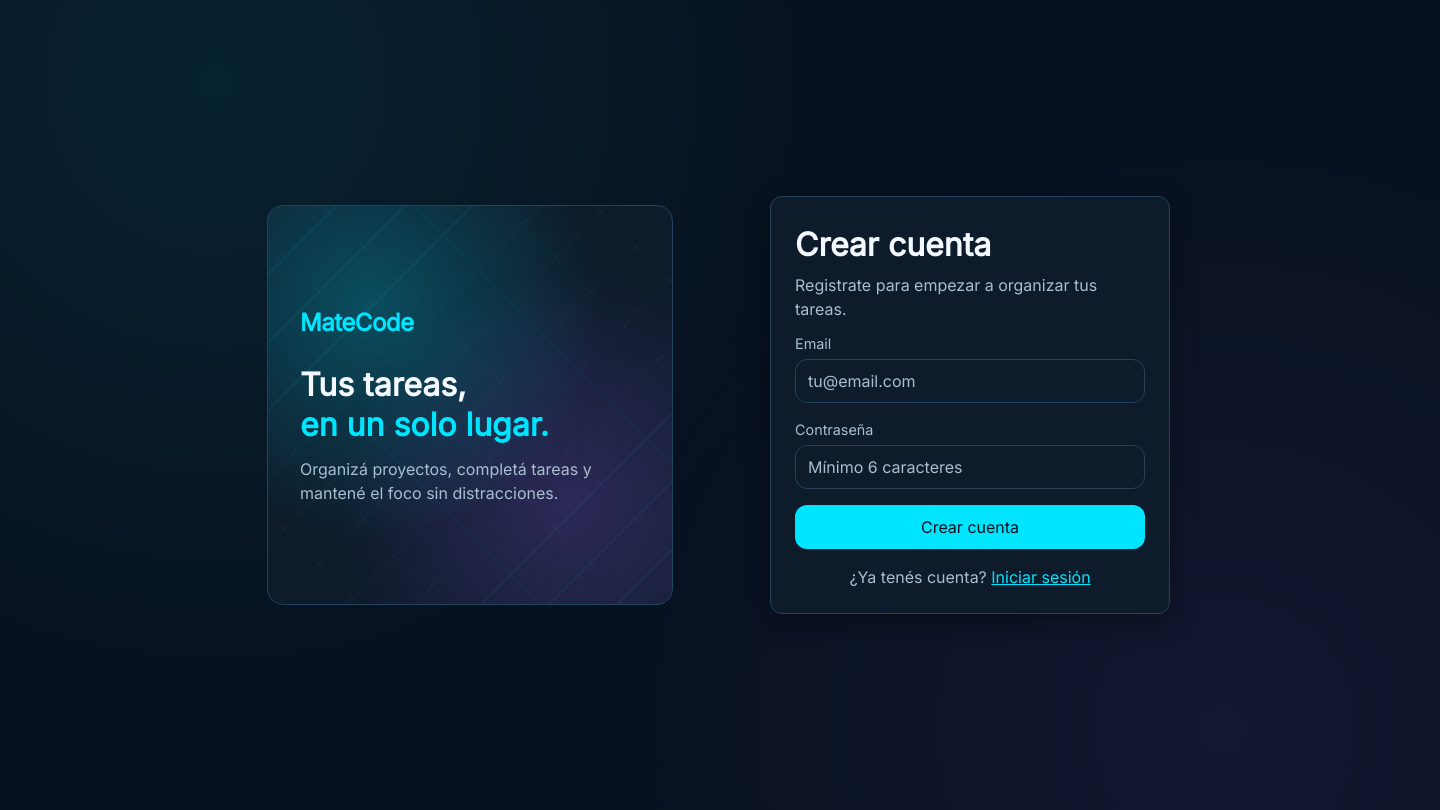
RegisterPage › muestra un error comprensible si el registro falla
Type "user@matecode.com" into the field labelled "Email" at (970,381), box x1=795 y1=359 x2=1145 y2=403
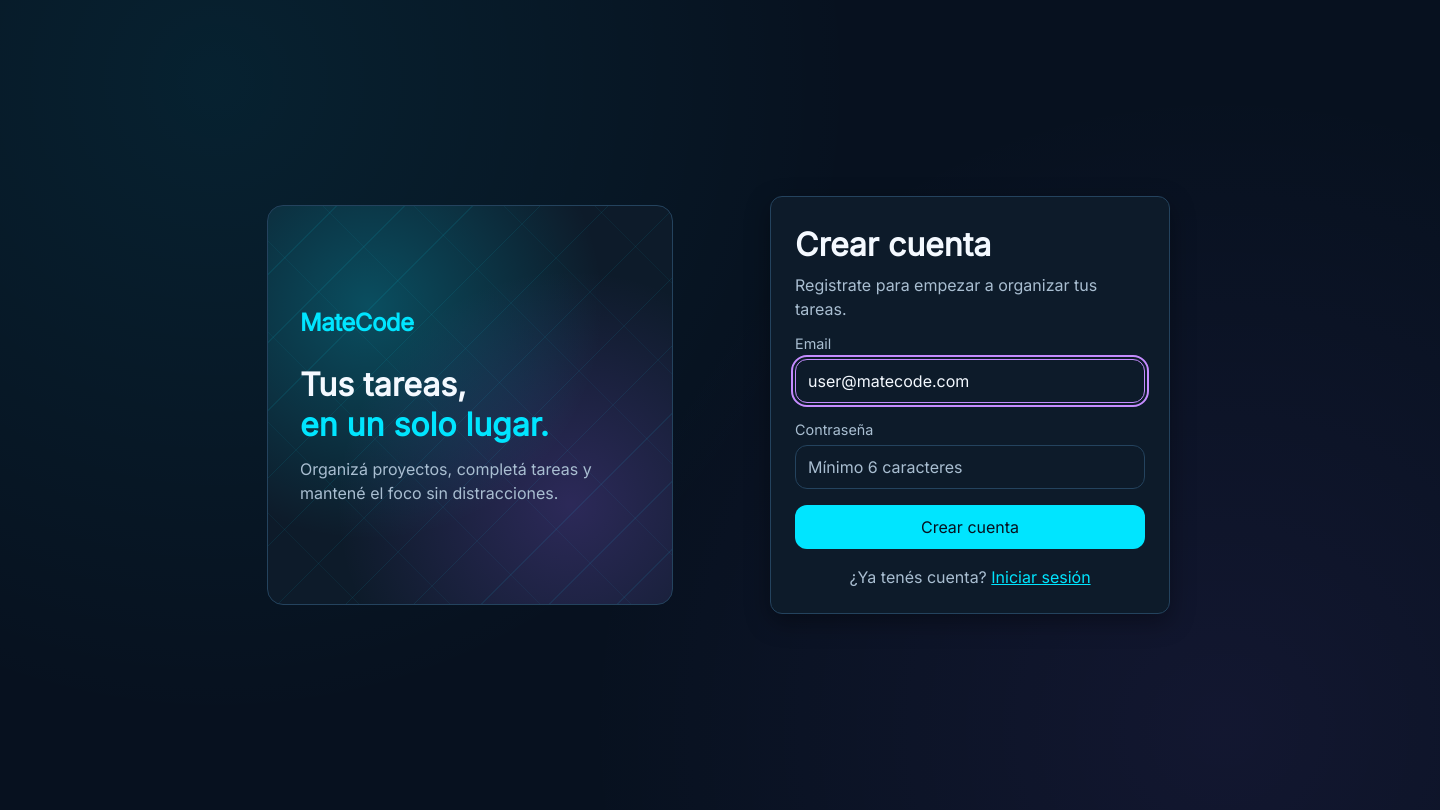
Type "123456" into the password field labelled "Contraseña" at (970,467), box x1=795 y1=445 x2=1145 y2=489
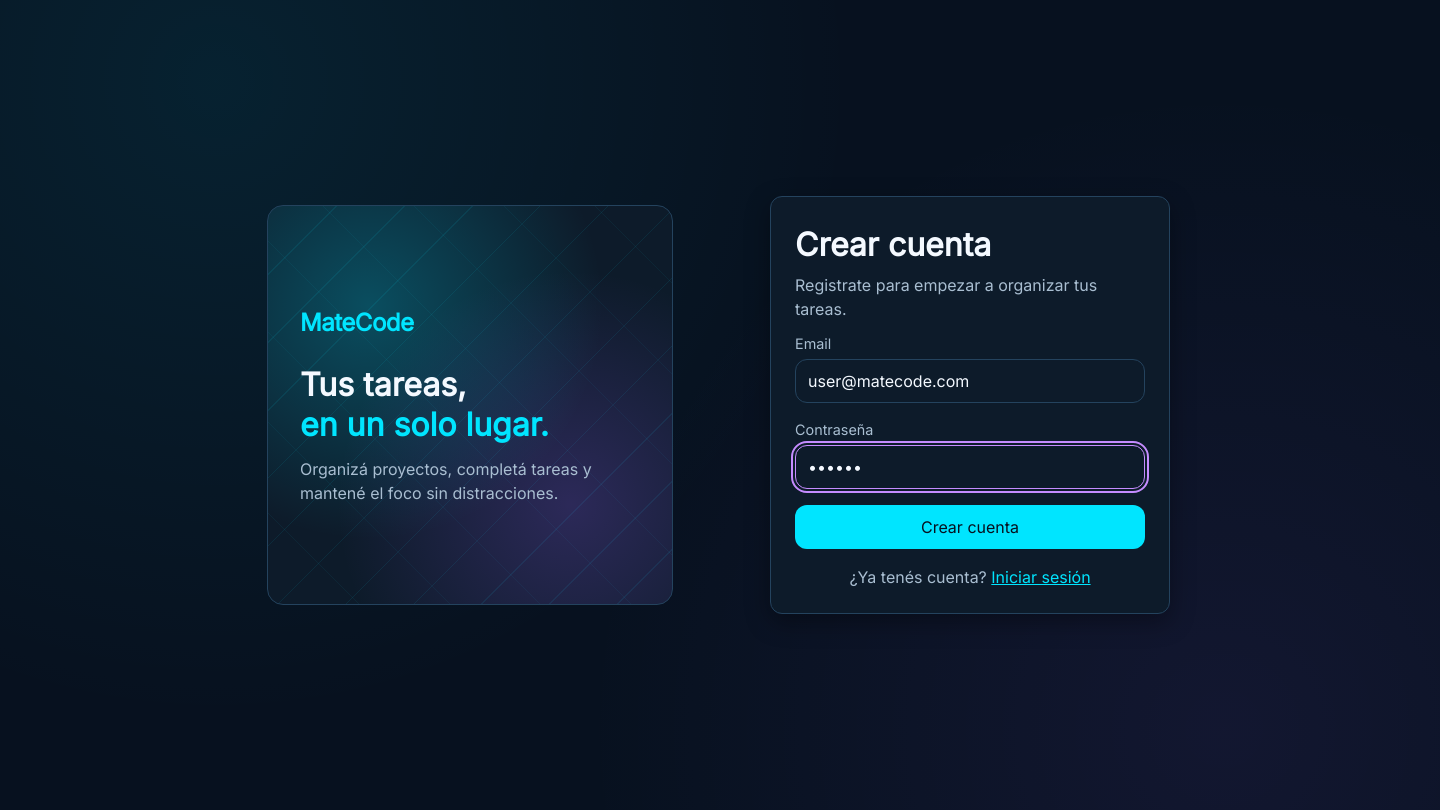
Click the button "Crear cuenta" at (970,527), box x1=795 y1=505 x2=1145 y2=549
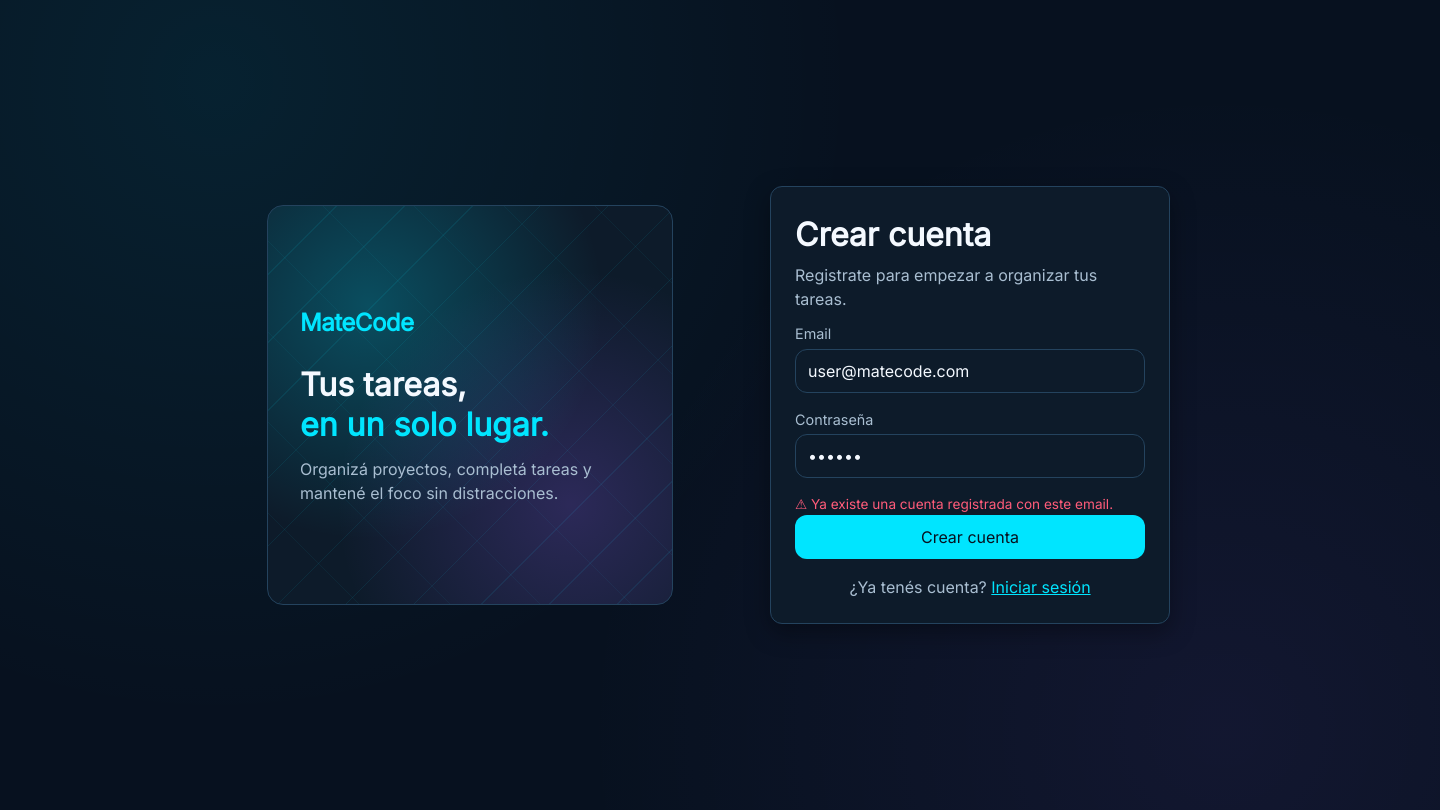
Now the text "⚠ Ya existe una cuenta registrada con este email." is shown, box x1=795 y1=494 x2=1145 y2=515
